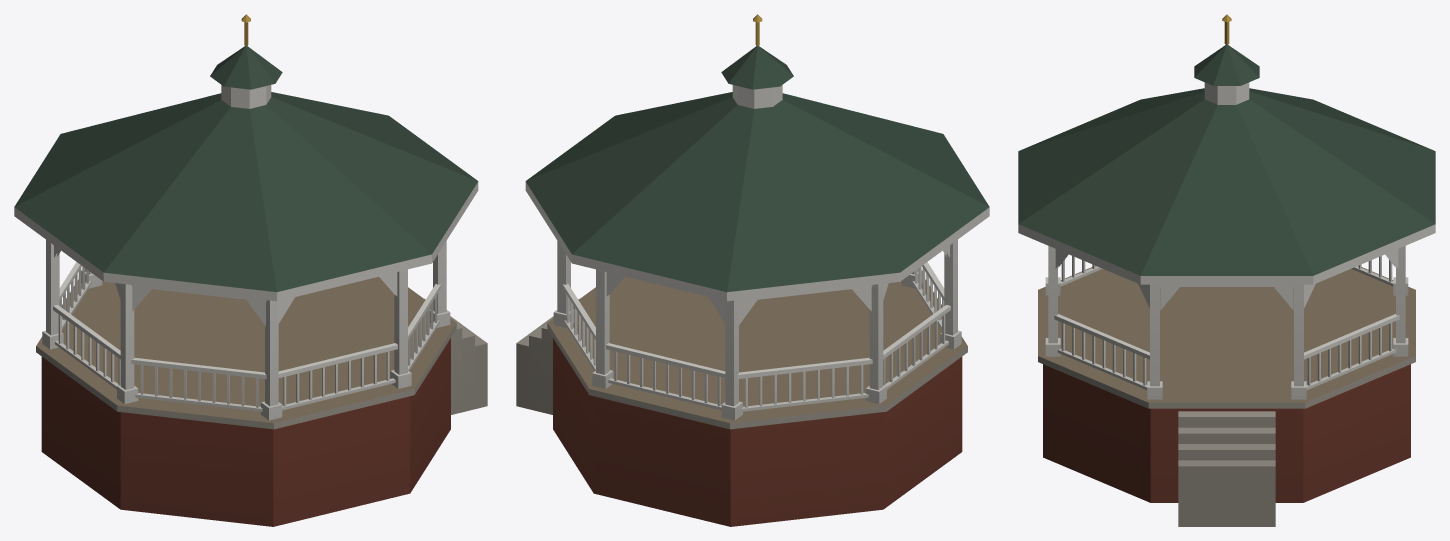
File: bandstand.glb
The picture shows the model from 3 angles, left to right: view 1: azimuth 30°, elevation 25°; view 2: azimuth 150°, elevation 25°; view 3: azimuth 270°, elevation 25°; orthographic projection. The views are drawn at different scales.
Parts seen in each view (by area): view 1: bandstand_lod0; view 2: bandstand_lod0; view 3: bandstand_lod0.
Boxes of the visible parts, left/top/right/bottom form: bandstand_lod0: left=14, top=14, right=487, bottom=526; bandstand_lod0: left=516, top=14, right=989, bottom=526; bandstand_lod0: left=1018, top=14, right=1435, bottom=526.
Size of what is drawn, in the model's own units: 10.15 by 10.25 by 9.42.
